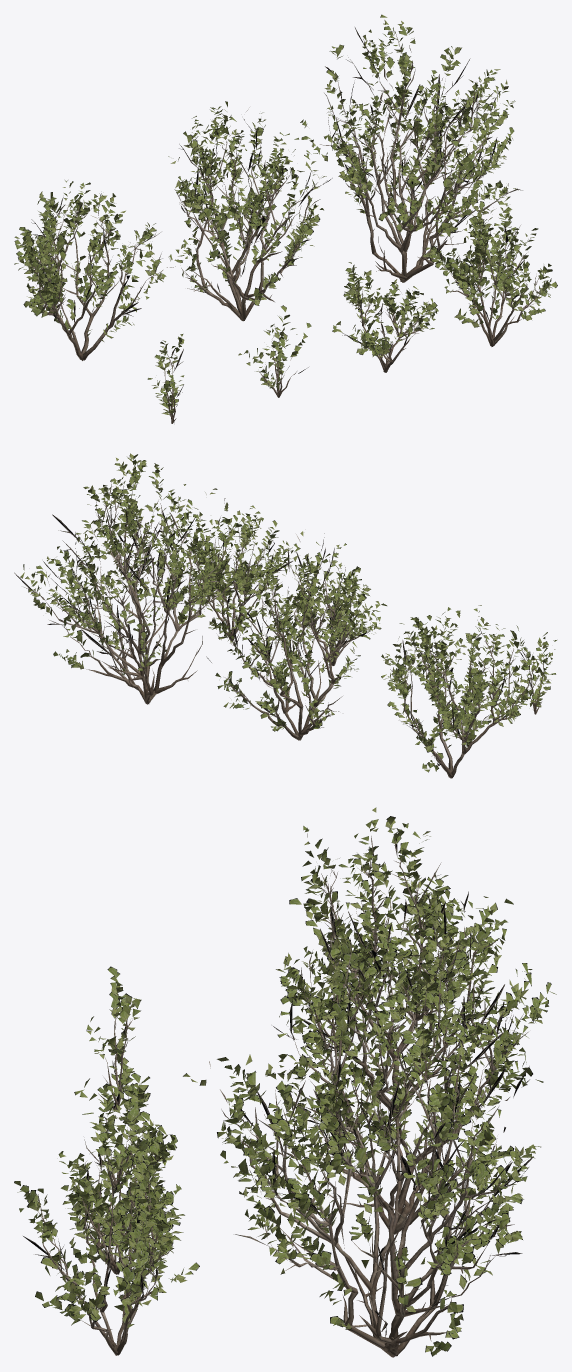
File: arbusto1.glb
3 views of the same model, one above another, from view 1: azimuth 30°, elevation 25°; view 2: azimuth 150°, elevation 25°; view 3: azimuth 270°, elevation 25° (orthographic). The views are drawn at different scales.
Visible parts, largest first — view 1: searsia_lucida_a_LOD0, searsia_lucida_b_LOD0, searsia_lucida_c_LOD0, searsia_lucida_d_LOD0, searsia_lucida_e_LOD0, searsia_lucida_f_LOD0, searsia_lucida_g_LOD0; view 2: searsia_lucida_a_LOD0, searsia_lucida_b_LOD0, searsia_lucida_c_LOD0, searsia_lucida_d_LOD0, searsia_lucida_e_LOD0, searsia_lucida_g_LOD0, searsia_lucida_f_LOD0; view 3: searsia_lucida_a_LOD0, searsia_lucida_b_LOD0, searsia_lucida_c_LOD0, searsia_lucida_d_LOD0, searsia_lucida_e_LOD0, searsia_lucida_g_LOD0, searsia_lucida_f_LOD0.
Part boxes in pixels (box(x1,y1,x2,y2)): searsia_lucida_a_LOD0: box(300, 14, 522, 282); searsia_lucida_b_LOD0: box(168, 101, 332, 321); searsia_lucida_c_LOD0: box(14, 180, 196, 360); searsia_lucida_d_LOD0: box(425, 194, 557, 346); searsia_lucida_e_LOD0: box(332, 262, 438, 372); searsia_lucida_f_LOD0: box(238, 305, 311, 397); searsia_lucida_g_LOD0: box(147, 334, 184, 423); searsia_lucida_a_LOD0: box(14, 453, 267, 704); searsia_lucida_b_LOD0: box(206, 531, 372, 740); searsia_lucida_c_LOD0: box(381, 605, 556, 778); searsia_lucida_d_LOD0: box(170, 502, 292, 640); searsia_lucida_e_LOD0: box(279, 567, 386, 665); searsia_lucida_g_LOD0: box(511, 632, 555, 714); searsia_lucida_f_LOD0: box(399, 615, 466, 687); searsia_lucida_a_LOD0: box(183, 952, 540, 1357); searsia_lucida_b_LOD0: box(273, 896, 556, 1234); searsia_lucida_c_LOD0: box(280, 807, 513, 1113); searsia_lucida_d_LOD0: box(14, 1118, 199, 1355); searsia_lucida_e_LOD0: box(58, 1072, 177, 1274); searsia_lucida_g_LOD0: box(86, 966, 141, 1110); searsia_lucida_f_LOD0: box(74, 1076, 163, 1192).
Bounding box in the file's own units: 4.79 × 2.33 × 2.84.
2 materials, 2 textured.
